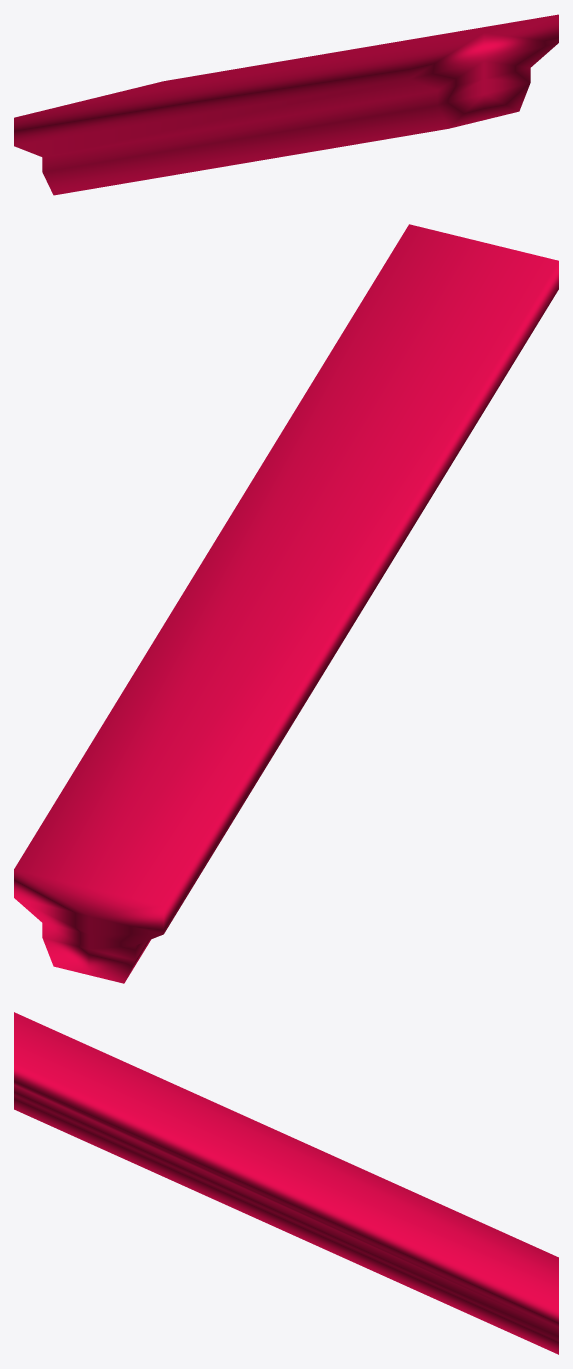
Rendered from Gate_05_C_45D.fbx.
3 renders of one model, top to bottom at view 1: azimuth 30°, elevation 25°; view 2: azimuth 150°, elevation 25°; view 3: azimuth 270°, elevation 25°, orthographic. The views are drawn at different scales.
Parts seen in each view (by area): view 1: Gate_05_C_45D; view 2: Gate_05_C_45D; view 3: Gate_05_C_45D.
Boxes of the visible parts, bbox=[...] form: Gate_05_C_45D: bbox=[14, 14, 558, 195]; Gate_05_C_45D: bbox=[14, 224, 558, 983]; Gate_05_C_45D: bbox=[14, 1012, 558, 1354].
Size of the model in its own units: 65.65 by 186 by 300.
